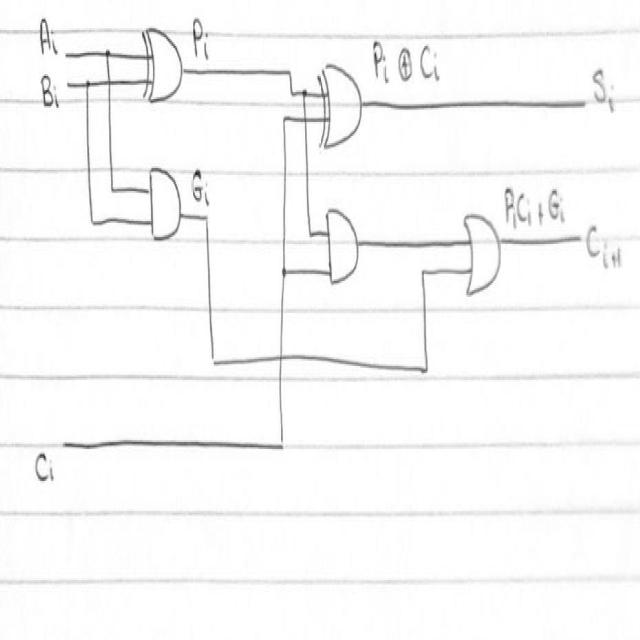AND: (322, 201, 366, 294), (147, 156, 188, 253)
OR: (458, 203, 506, 303)
XOR: (312, 46, 366, 158), (140, 16, 186, 112)
